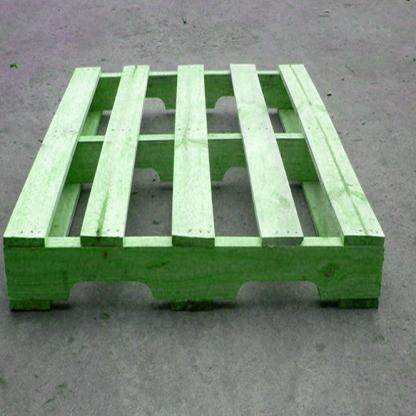BoxFace: (0, 61, 386, 310)
